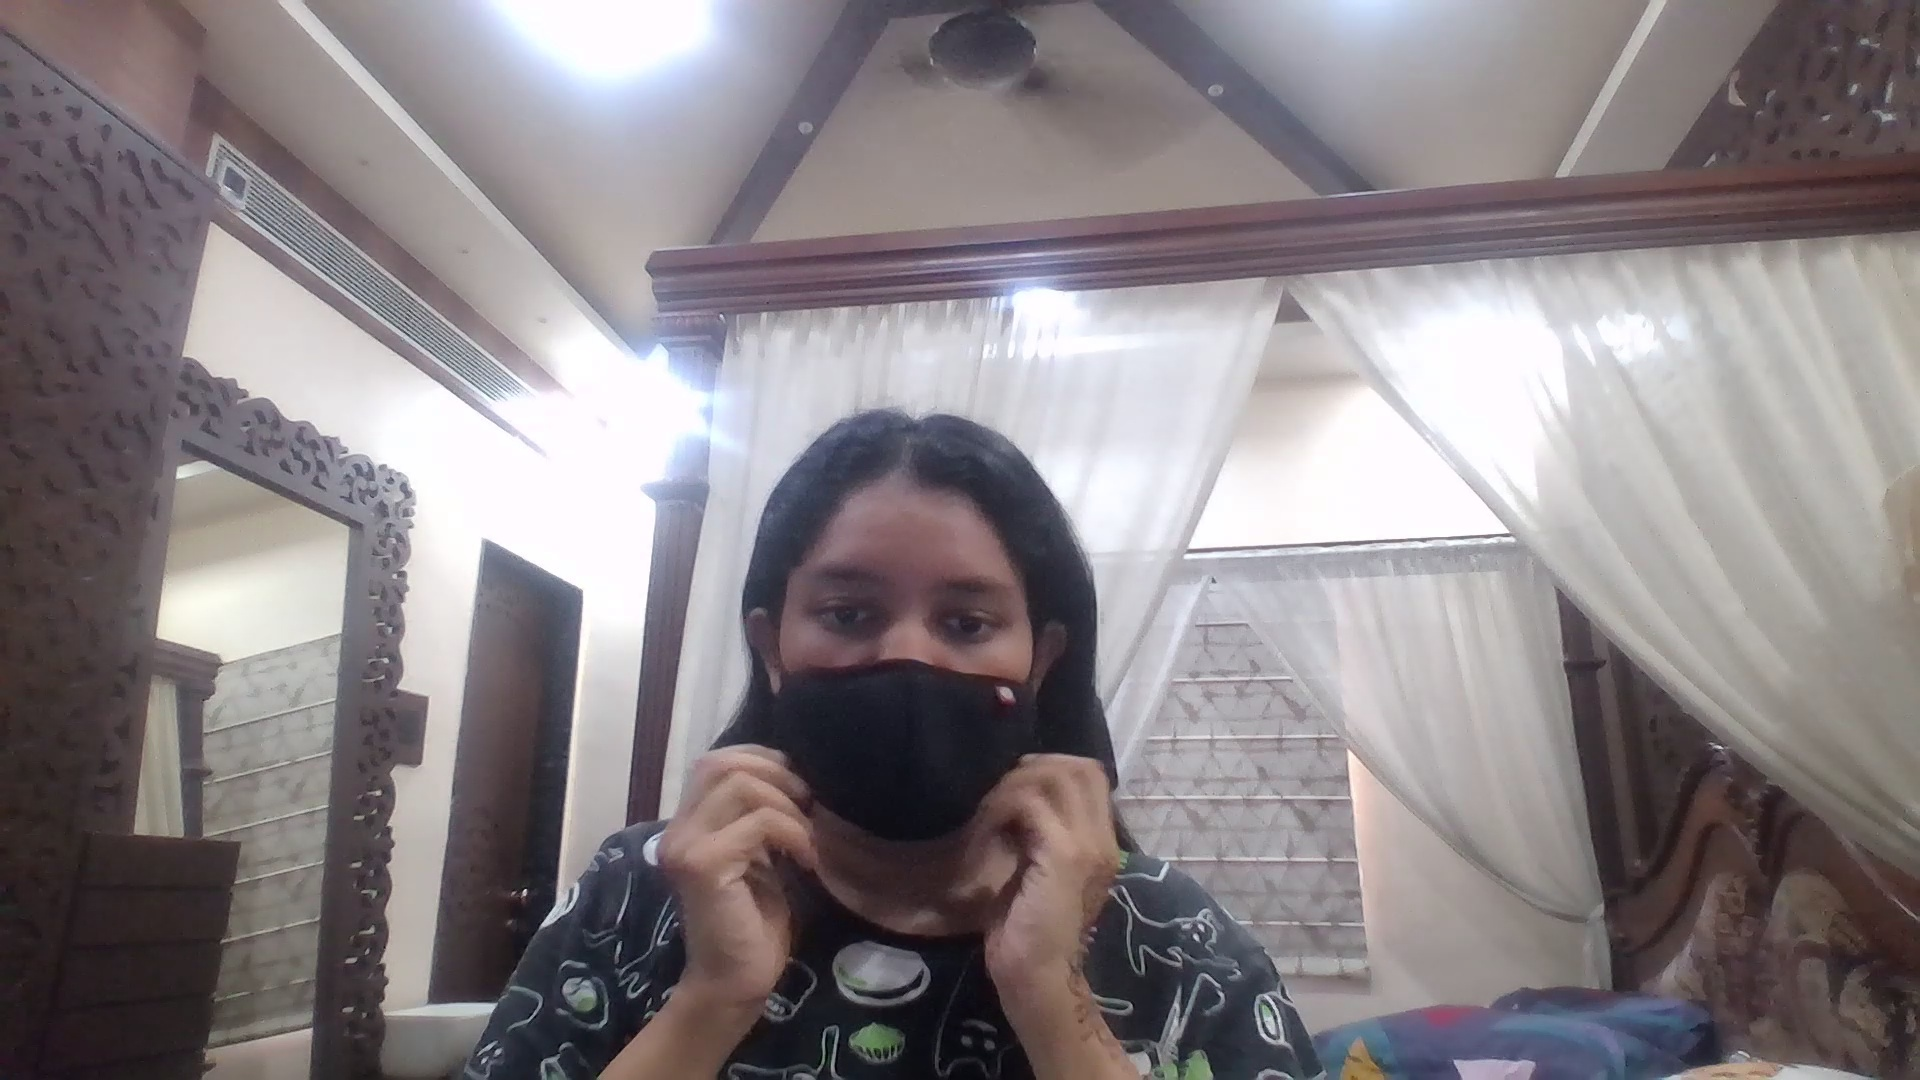Mask: (767, 658, 1039, 844)
